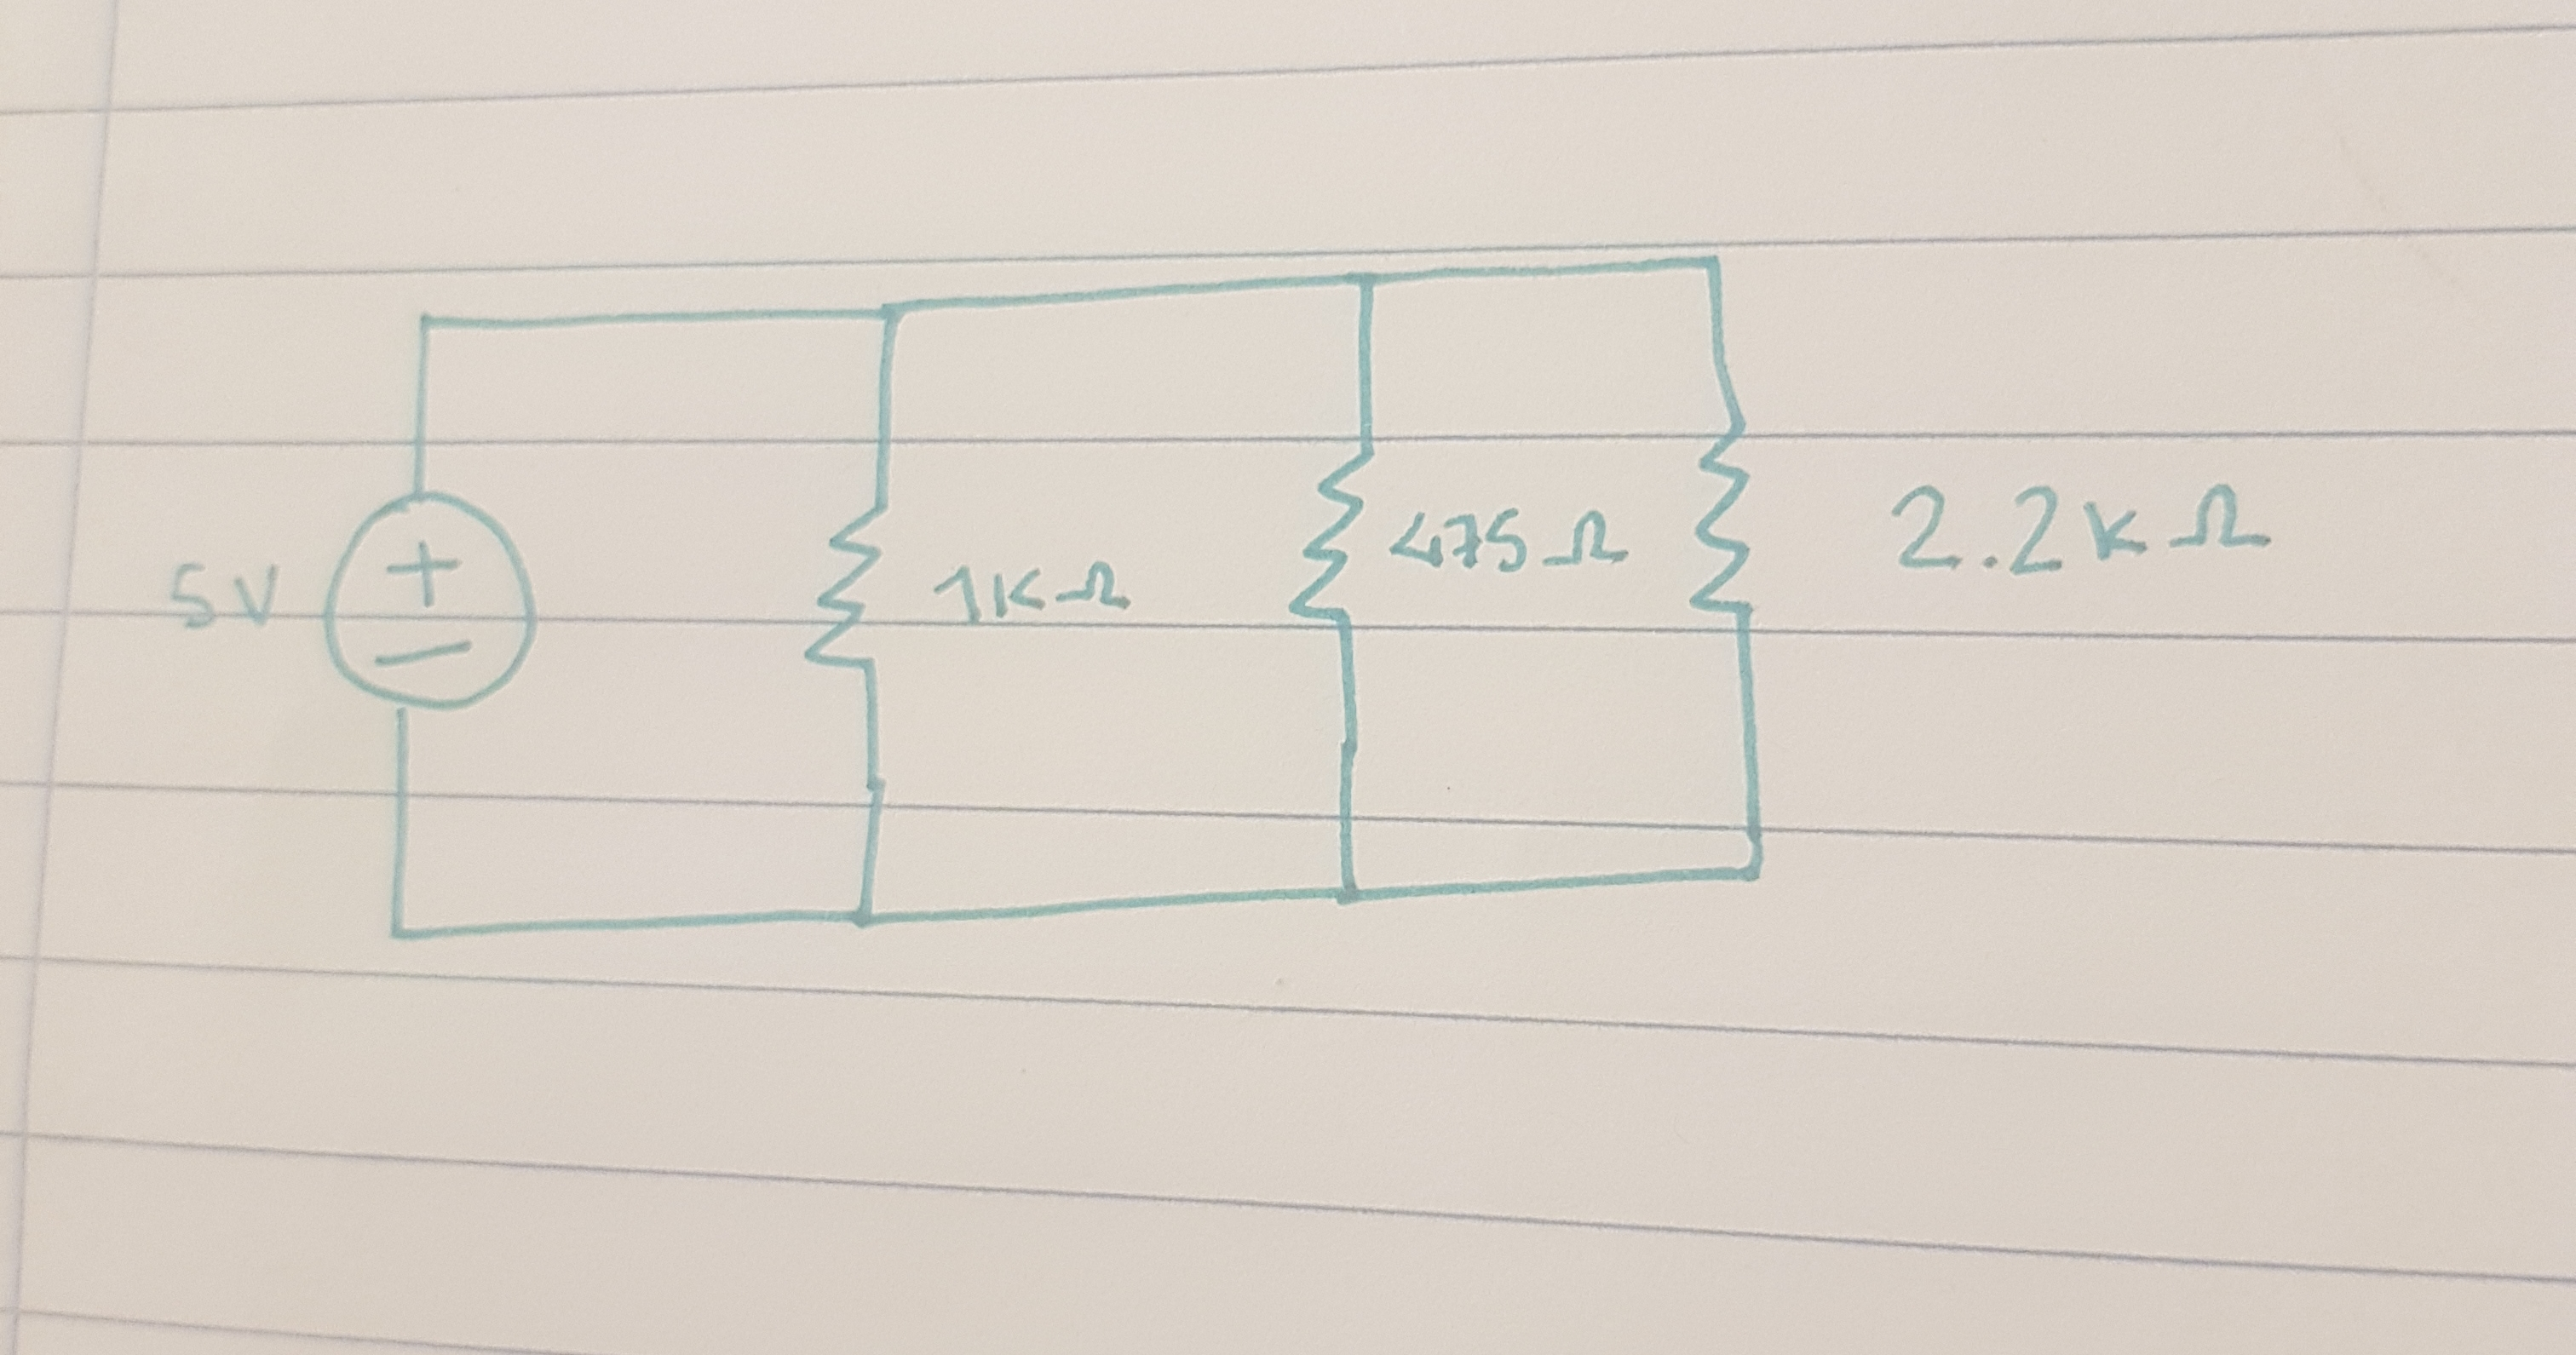junction: (828, 882, 905, 948), (1319, 858, 1390, 924), (862, 276, 913, 346), (1339, 250, 1397, 308), (365, 909, 426, 962), (1680, 235, 1741, 286), (402, 293, 458, 347), (1726, 841, 1779, 899)
resistor: (1683, 415, 1779, 626), (1285, 448, 1390, 633), (797, 504, 900, 679)
text: (1879, 468, 2283, 580), (1383, 499, 1639, 589), (920, 548, 1148, 626), (150, 541, 288, 637)
voltage.dc: (310, 483, 557, 730)
